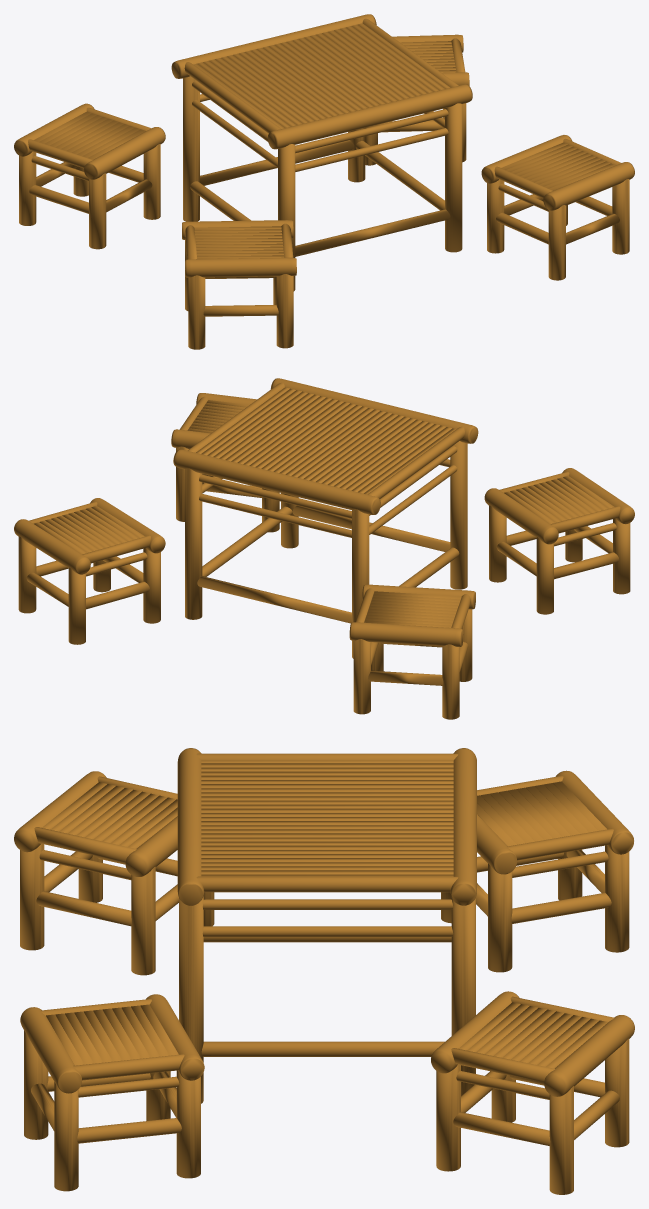
The model's file is ban_tra_da.glb.
3 views of the same model, one above another, from view 1: azimuth 30°, elevation 25°; view 2: azimuth 150°, elevation 25°; view 3: azimuth 270°, elevation 25° (orthographic). The views are drawn at different scales.
Visible parts, largest first — view 1: BAN_0, GHE_1; view 2: GHE_1, BAN_0; view 3: GHE_1, BAN_0.
Boxes of the visible parts, x1,y1,x2,y2 form: BAN_0: (171, 14, 472, 291); GHE_1: (14, 34, 634, 349); GHE_1: (14, 393, 634, 719); BAN_0: (173, 378, 478, 658); GHE_1: (14, 770, 634, 1194); BAN_0: (177, 748, 476, 1103).
Bounding box in the file's own units: 36.24 × 12.52 × 30.86.
